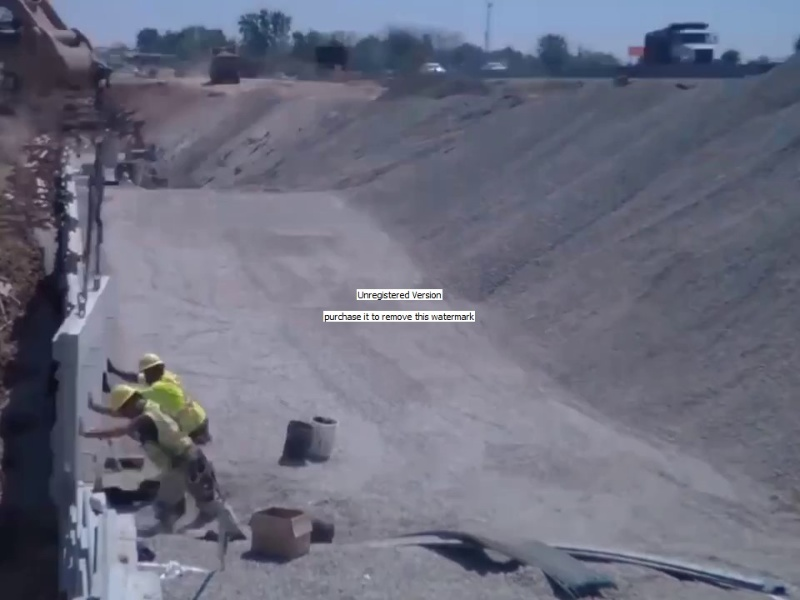dumptruck: (642, 21, 719, 65)
hardhat: (107, 383, 138, 414), (137, 353, 164, 374)
person: (77, 384, 249, 545), (102, 353, 216, 449)
roller: (204, 44, 242, 84)
wall: (46, 131, 147, 600)
